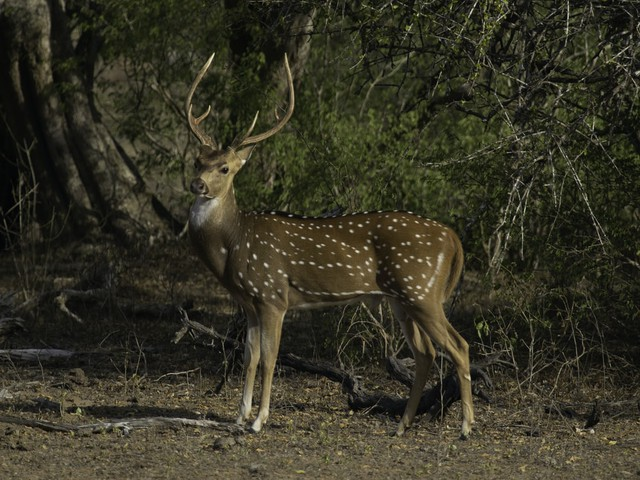deer: (171, 45, 479, 447)
